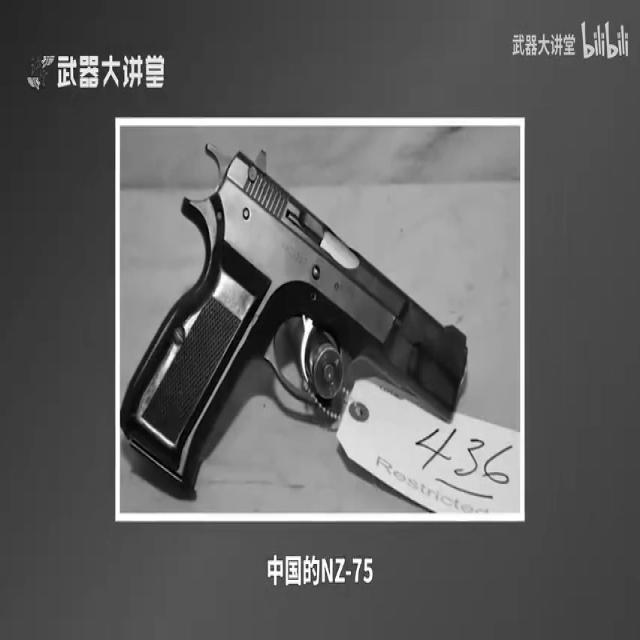Hand-Gun: (117, 115, 516, 516)
